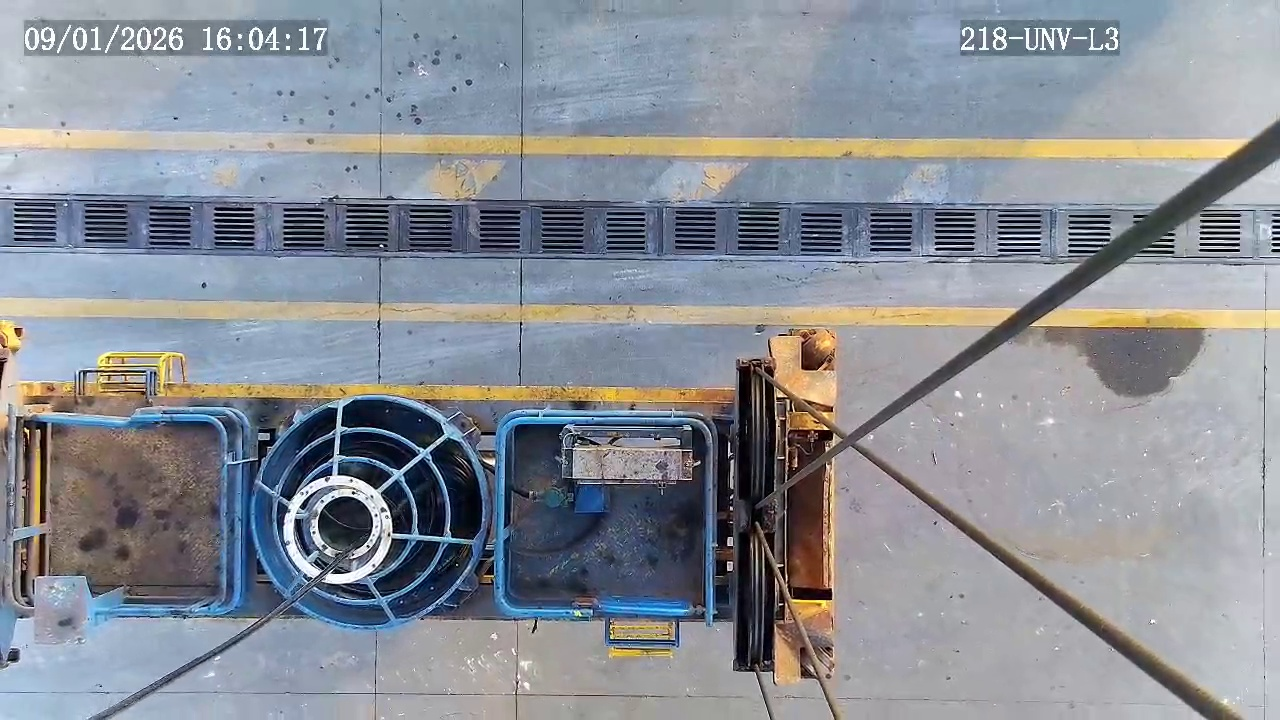right: (254, 395, 487, 629)
